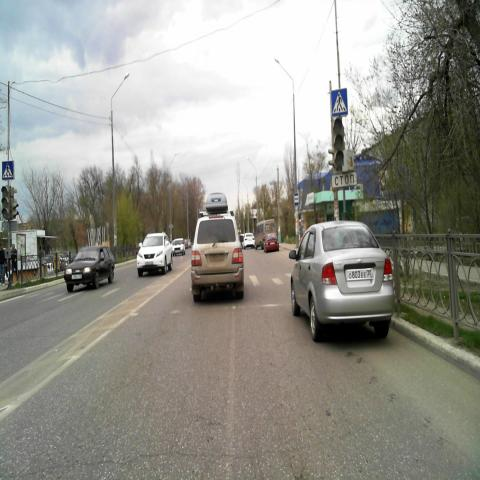6_16: (333, 173, 357, 187)
